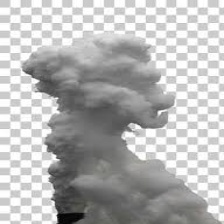smoke: (38, 49, 176, 218)
